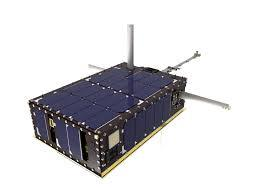antenna: (177, 89, 234, 114), (161, 47, 207, 74), (126, 22, 135, 71), (85, 62, 107, 74)
body: (25, 59, 189, 181)
solar: (36, 77, 141, 132), (121, 93, 174, 159), (85, 64, 175, 100), (54, 118, 87, 163), (32, 108, 49, 144)
